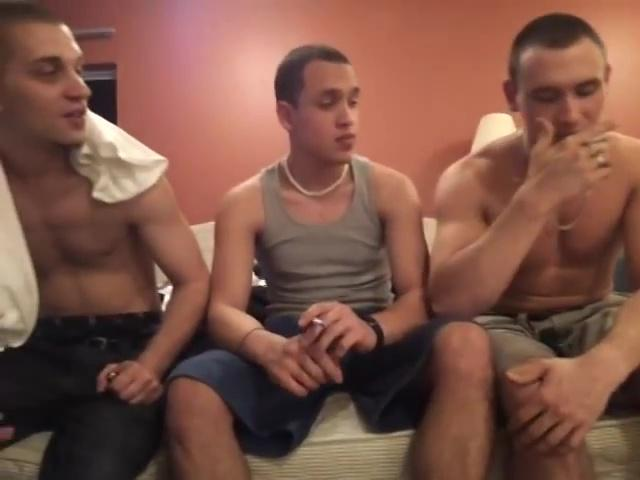cigarette: (585, 135, 615, 150), (311, 318, 327, 330)
